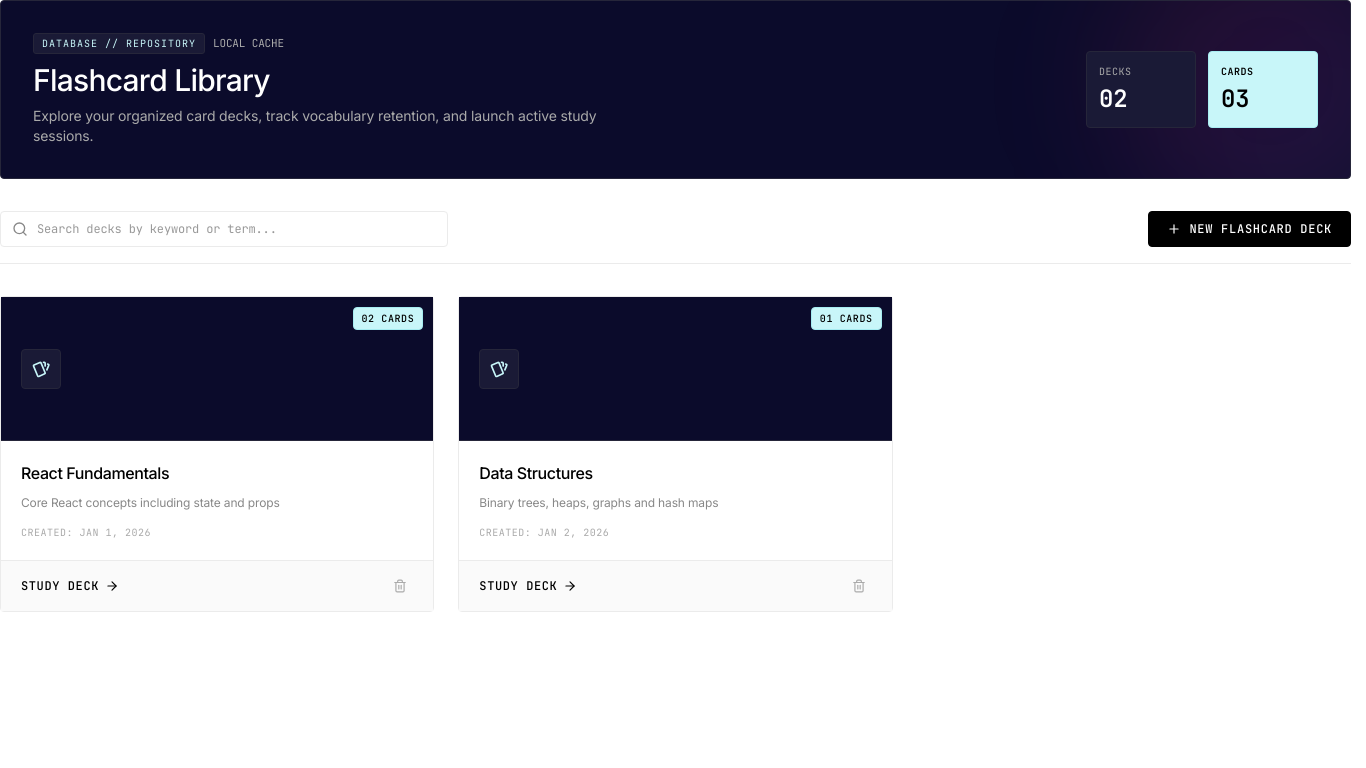
MyFlashcards component › cancels deletion when clicking Cancel in modal
The image size is (1366, 768).
Click the button titled "Delete Deck" below "Jan 1, 2026" at (400,586), box [387,572,413,598]
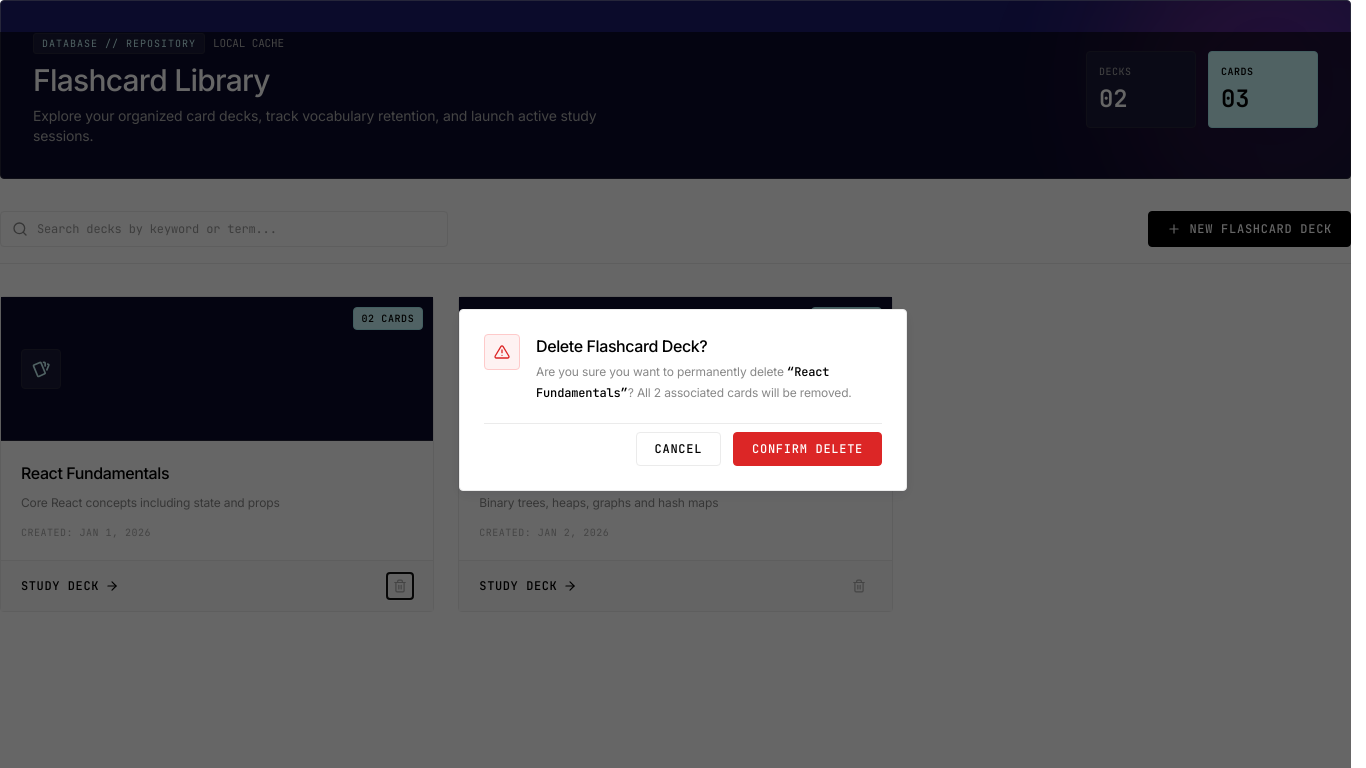
# Cancel deletion
Click the button "Cancel" at (678,449), box [636,432,721,466]
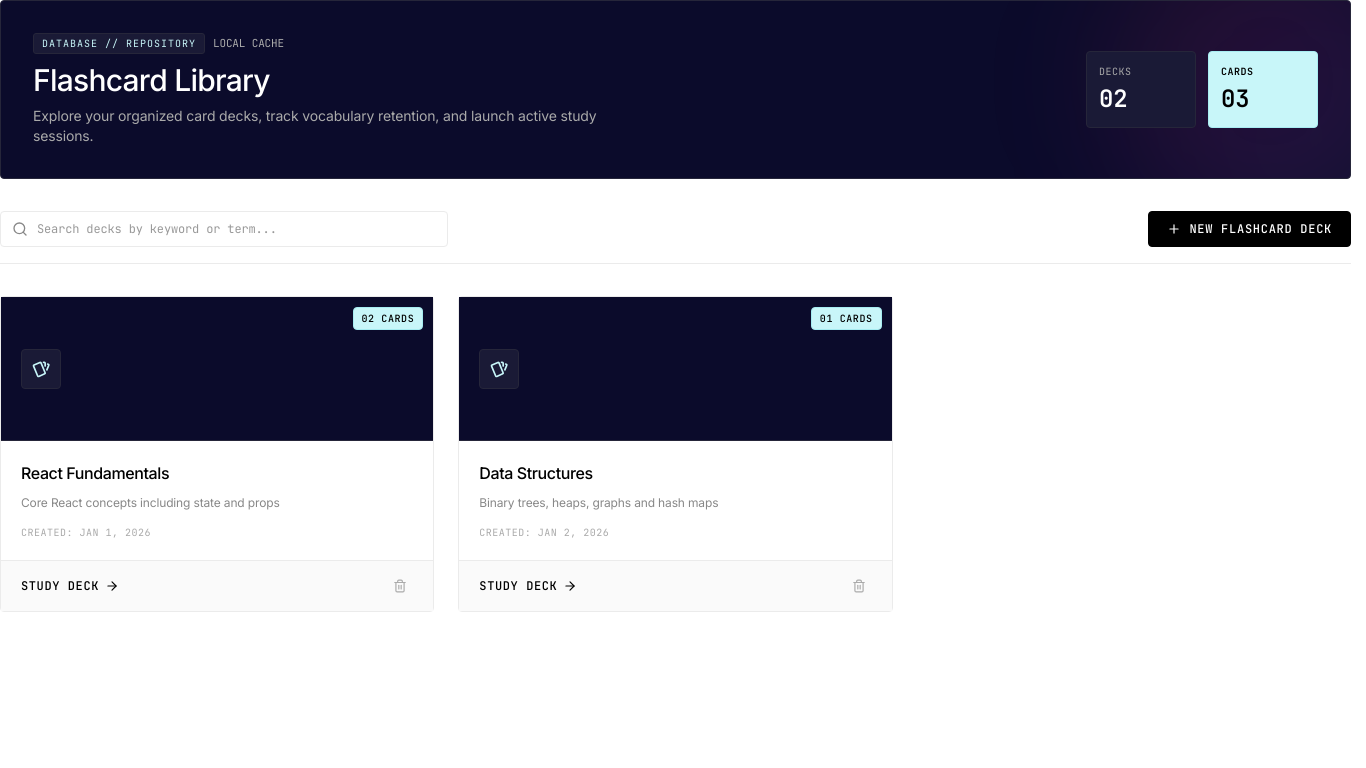
Expected: the link "React Fundamentals" is shown, [21,463,169,483]
Expected: the heading "Delete Flashcard Deck?" is gone
